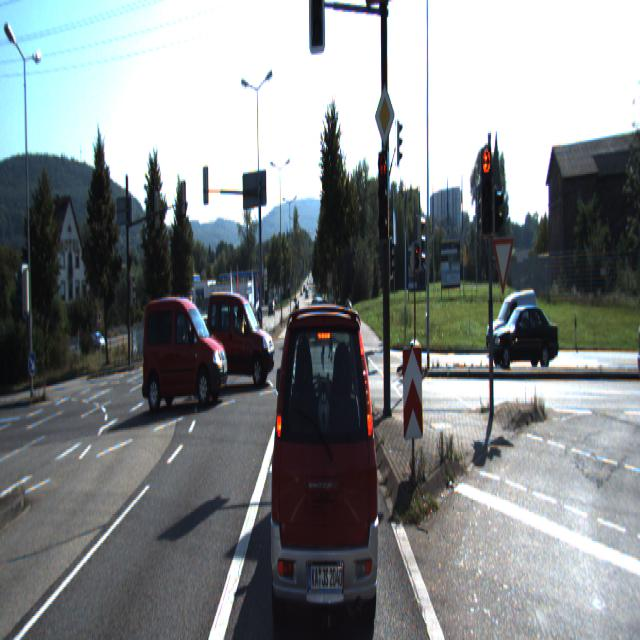Car: (267, 277, 381, 636), (141, 299, 229, 418), (205, 289, 274, 392), (488, 298, 560, 373), (485, 288, 538, 357), (194, 313, 247, 368), (172, 321, 193, 355), (195, 316, 215, 350), (219, 310, 239, 344)
